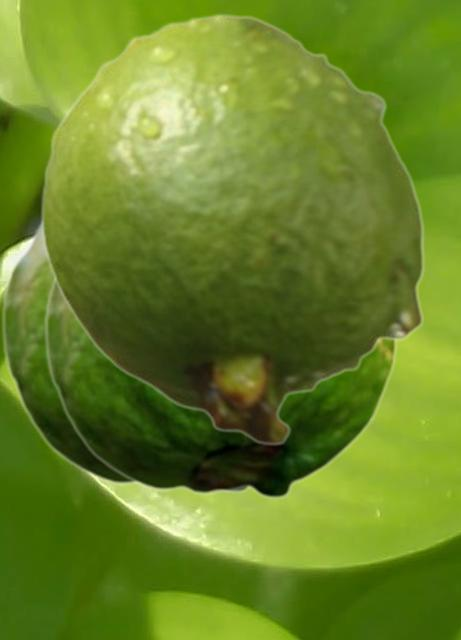guava: (39, 12, 424, 445), (44, 277, 396, 499), (1, 218, 249, 493)
